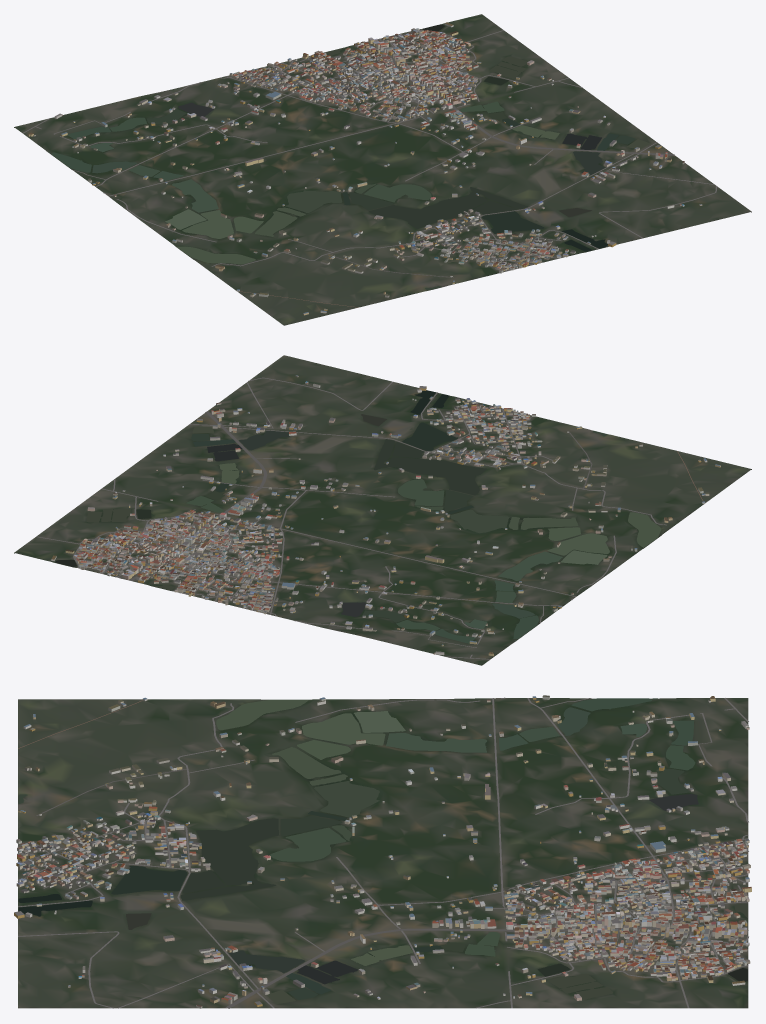
The picture shows the model from 3 angles, top to bottom: view 1: azimuth 30°, elevation 25°; view 2: azimuth 150°, elevation 25°; view 3: azimuth 270°, elevation 25°; orthographic projection. The views are drawn at different scales.
Visible parts, largest first — view 1: ground, buildings, water, roads; view 2: ground, buildings, water, roads; view 3: ground, buildings, water, roads.
Part boxes in pixels (<box>): ground: <box>14,14,751,325</box>; buildings: <box>27,22,702,315</box>; water: <box>48,24,649,290</box>; roads: <box>22,29,717,307</box>; ground: <box>14,355,751,665</box>; buildings: <box>51,375,720,656</box>; water: <box>55,391,661,643</box>; roads: <box>36,377,703,659</box>; ground: <box>18,698,748,1008</box>; buildings: <box>14,695,751,1008</box>; water: <box>18,698,747,1003</box>; roads: <box>17,697,748,1008</box>.
Bounding box in the file's own units: 1407 × 24.97 × 1416.
